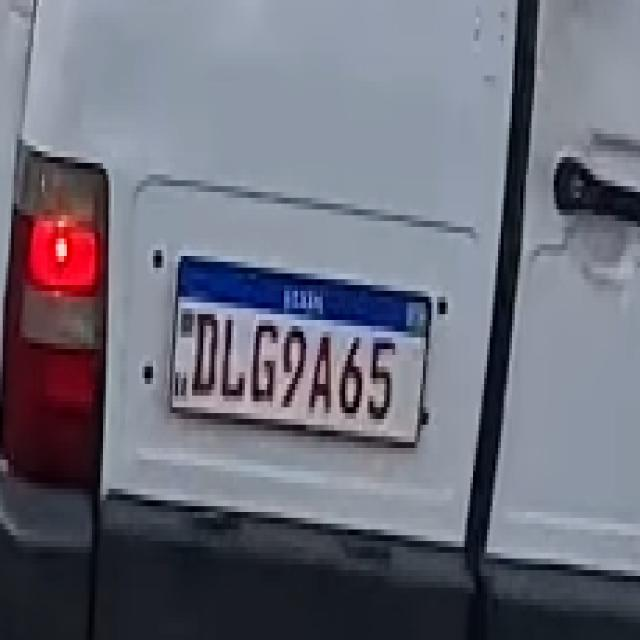Placa_mercosul_carro: (165, 246, 436, 456)
